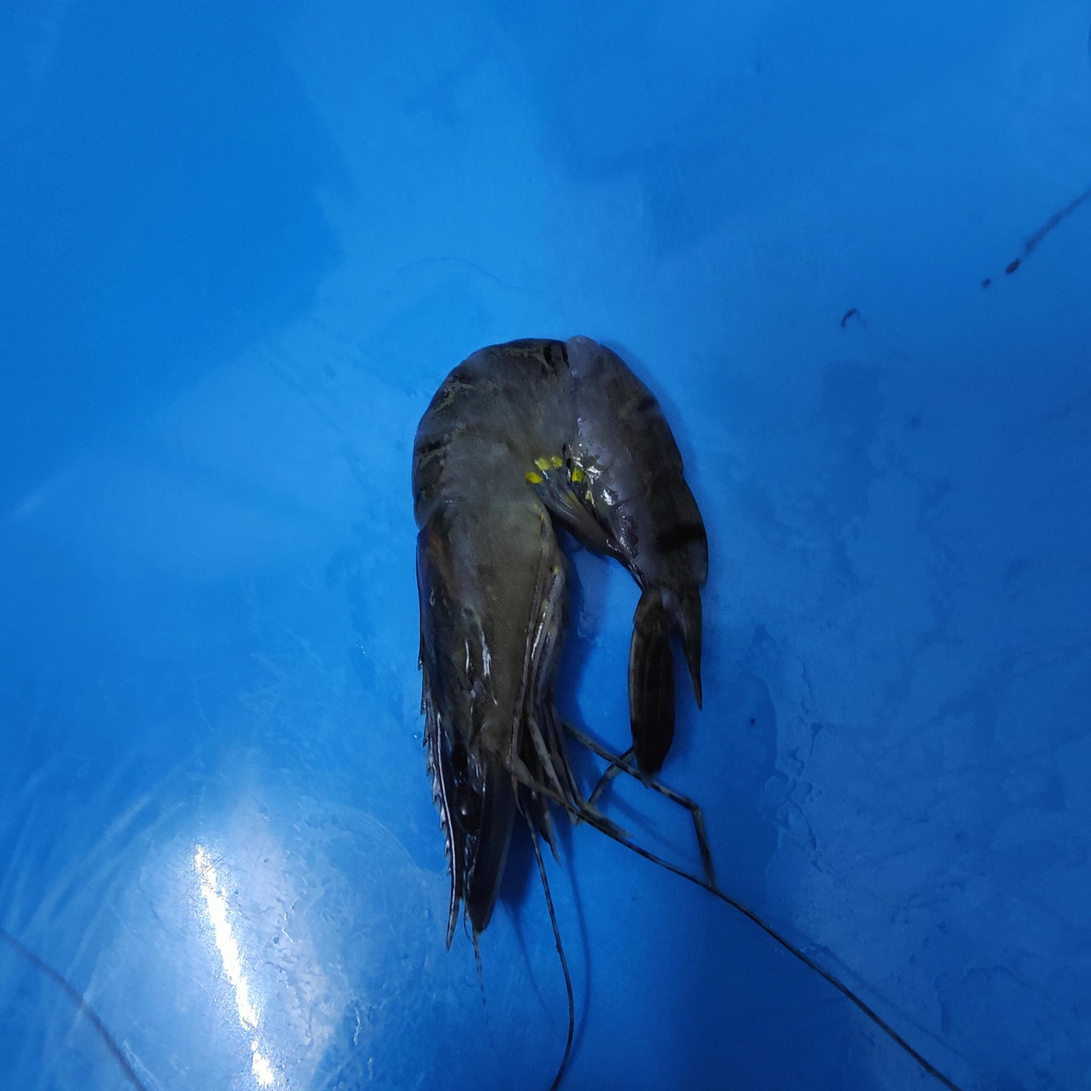whitespot: (435, 523, 527, 655), (417, 404, 509, 502)
